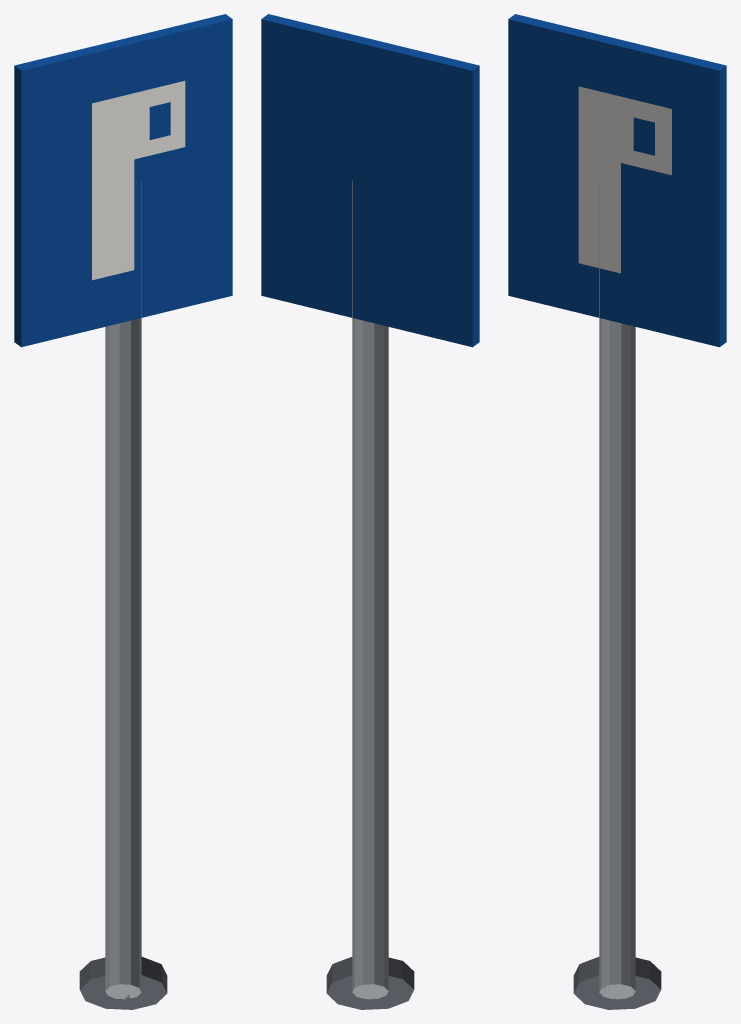
The model's file is sign-parking.glb.
3 views of the same model, side by side, from view 1: azimuth 30°, elevation 25°; view 2: azimuth 150°, elevation 25°; view 3: azimuth 330°, elevation 25° (orthographic).
Parts seen in each view (by area): view 1: sign-parking; view 2: sign-parking; view 3: sign-parking.
Boxes of the visible parts, bbox=[...] form: sign-parking: bbox=[14, 14, 232, 1009]; sign-parking: bbox=[261, 14, 479, 1009]; sign-parking: bbox=[508, 14, 726, 1009].
Size of the model in its own units: 0.6 by 2.58 by 0.2054.
